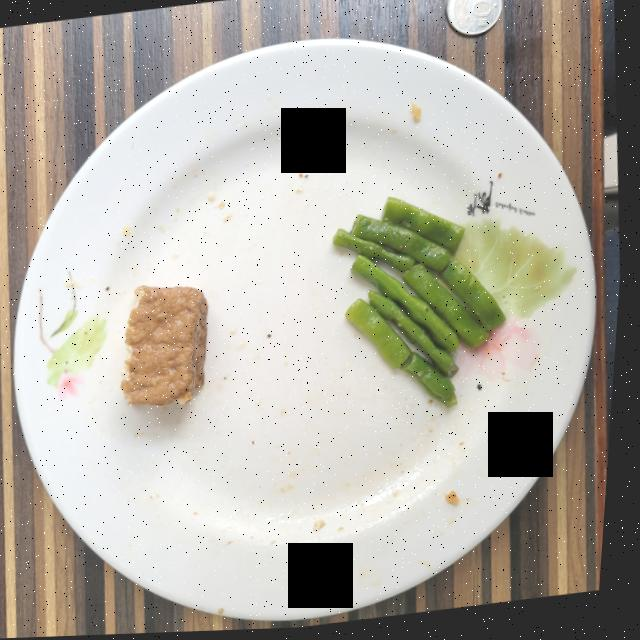coin: (447, 0, 503, 37)
egg tofu: (126, 285, 212, 406)
